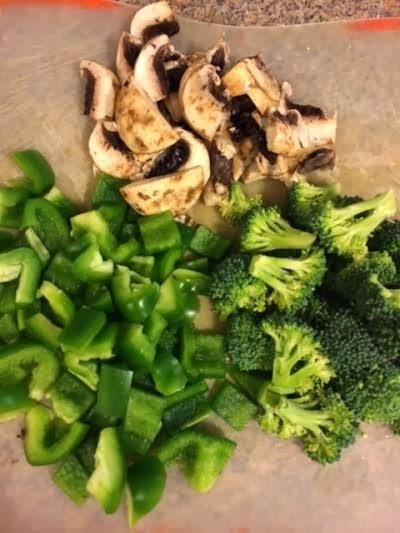background: (0, 0, 250, 437)
